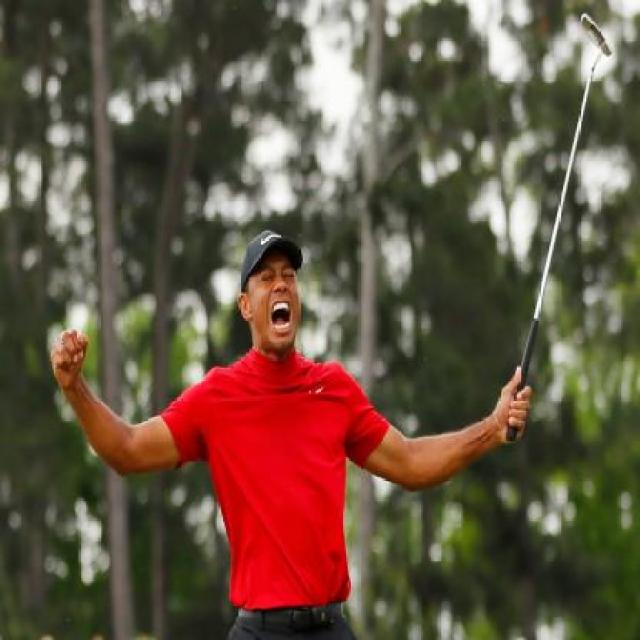club head: (578, 9, 614, 66)
